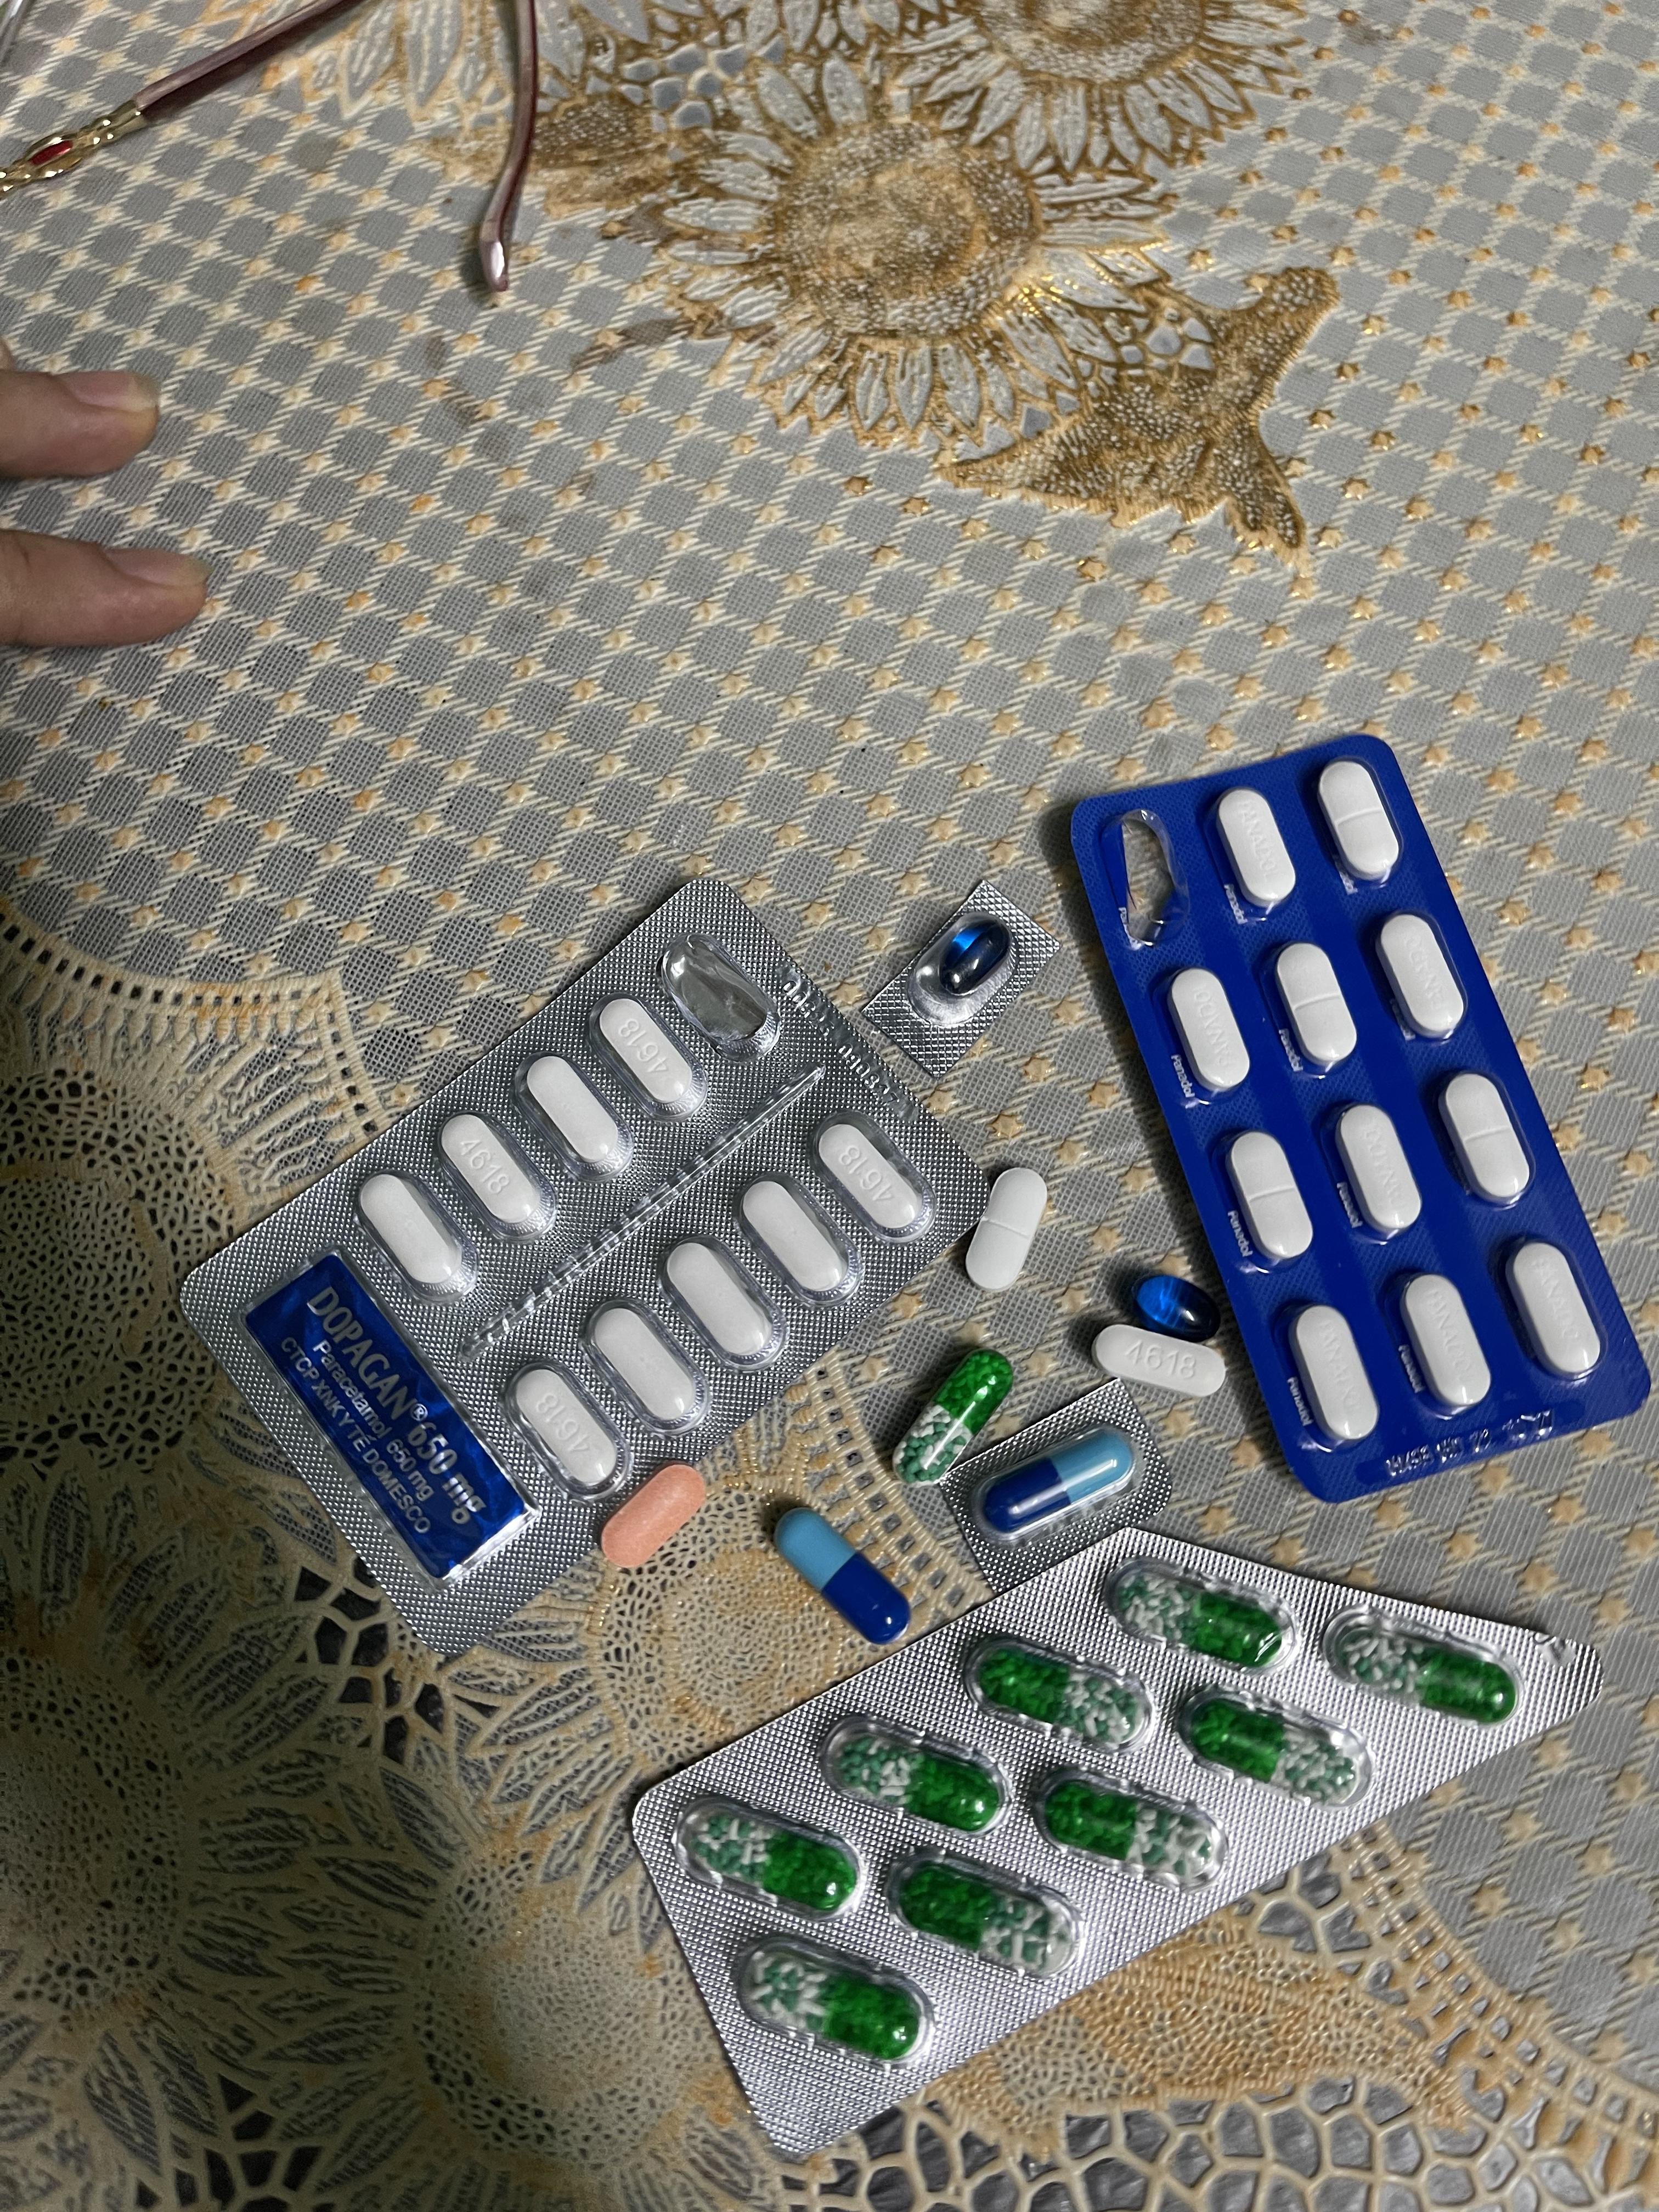Lincomyxin_500mg: (1133, 1275, 1222, 1341), (938, 918, 1009, 993)
Loratadine_10mg: (598, 1463, 708, 1566)
Paracetamol_350mg: (1502, 1238, 1605, 1381), (1286, 1303, 1380, 1442), (1436, 1073, 1532, 1207), (1398, 1273, 1493, 1407), (1331, 1103, 1424, 1240), (1377, 913, 1469, 1040), (1225, 1130, 1312, 1263), (1270, 941, 1354, 1069), (965, 1165, 1049, 1289), (1317, 761, 1401, 885), (1168, 968, 1249, 1094), (1215, 789, 1297, 911)
Paracetamol_500mg: (505, 1364, 626, 1498), (664, 1238, 782, 1369), (357, 1172, 474, 1301), (521, 1055, 634, 1184), (589, 1303, 702, 1432), (814, 1118, 929, 1240), (598, 998, 708, 1122), (739, 1177, 849, 1301), (437, 1116, 547, 1237), (1091, 1324, 1218, 1402)
Paracetamol_650mg: (728, 1932, 931, 2071), (887, 1848, 1079, 1977), (1324, 1604, 1520, 1726), (819, 1712, 1000, 1832), (680, 1796, 856, 1918), (1187, 1689, 1364, 1803), (1040, 1764, 1209, 1881), (972, 1635, 1145, 1749), (1108, 1561, 1277, 1669), (890, 1348, 1016, 1487)
pill: (774, 1501, 918, 1644), (976, 1426, 1141, 1541)
